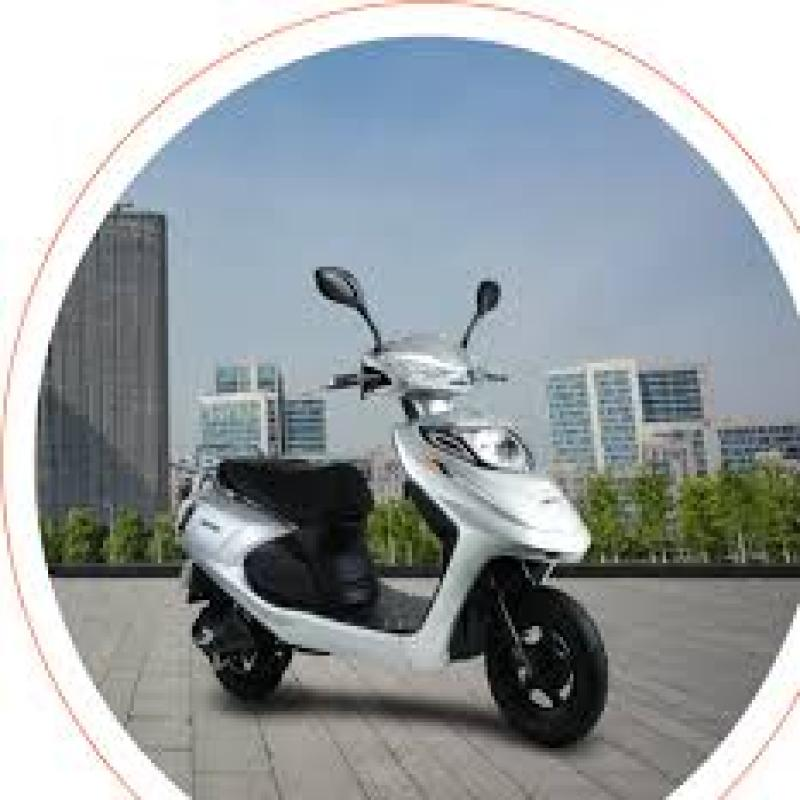bike: (163, 242, 630, 755)
